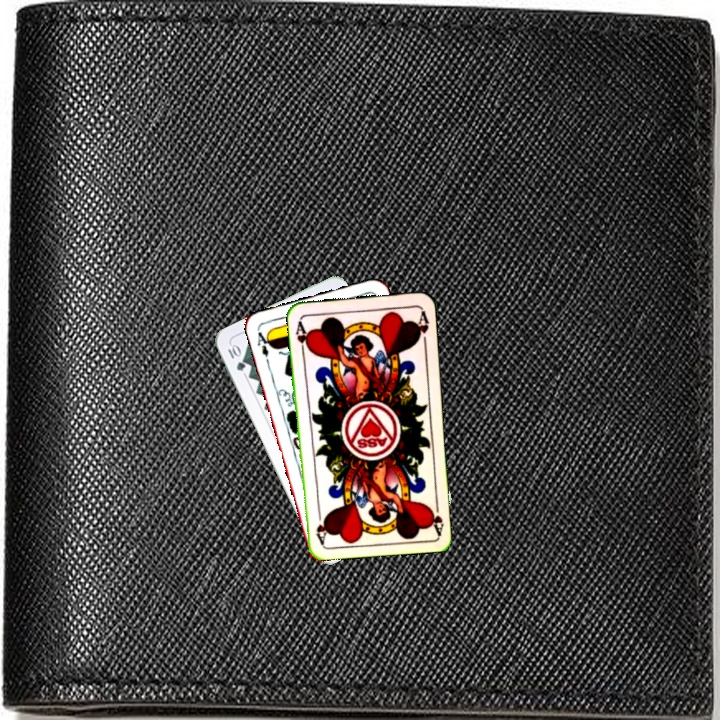EA: (253, 326, 275, 360)
G10: (224, 340, 248, 374)
HA: (291, 316, 312, 356), (425, 495, 446, 535)
